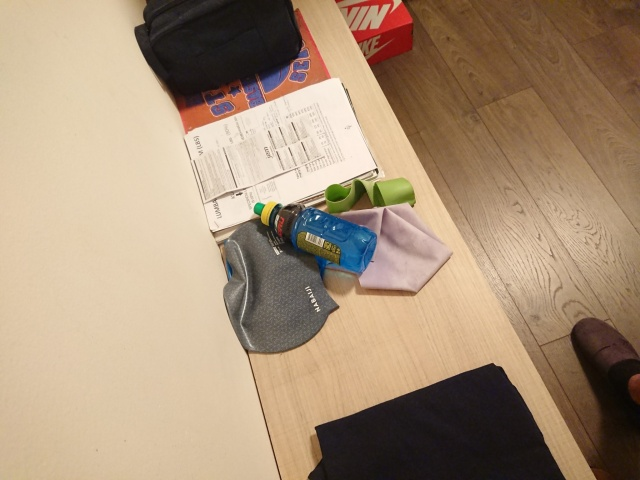Vindi Iso Sport Forest Strawberries 500mL: (251, 200, 378, 273)
